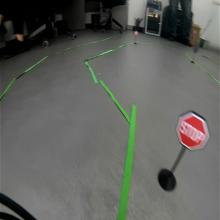stop: (176, 111, 209, 152)
